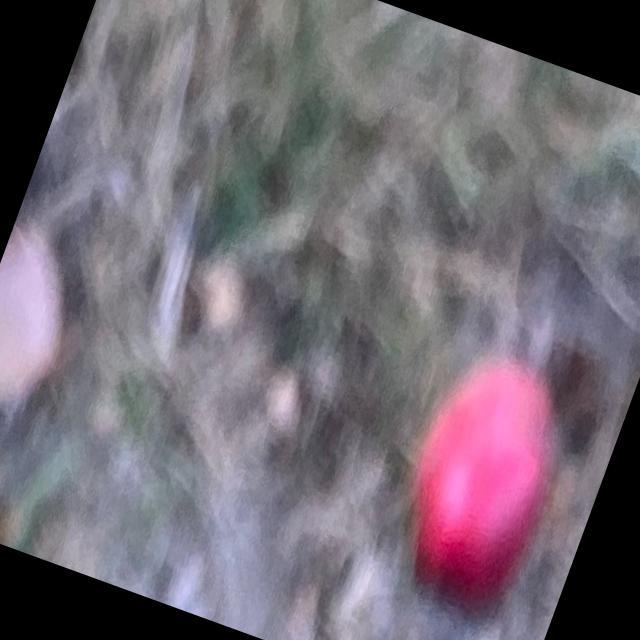100-_ripeness: (380, 352, 582, 624)
